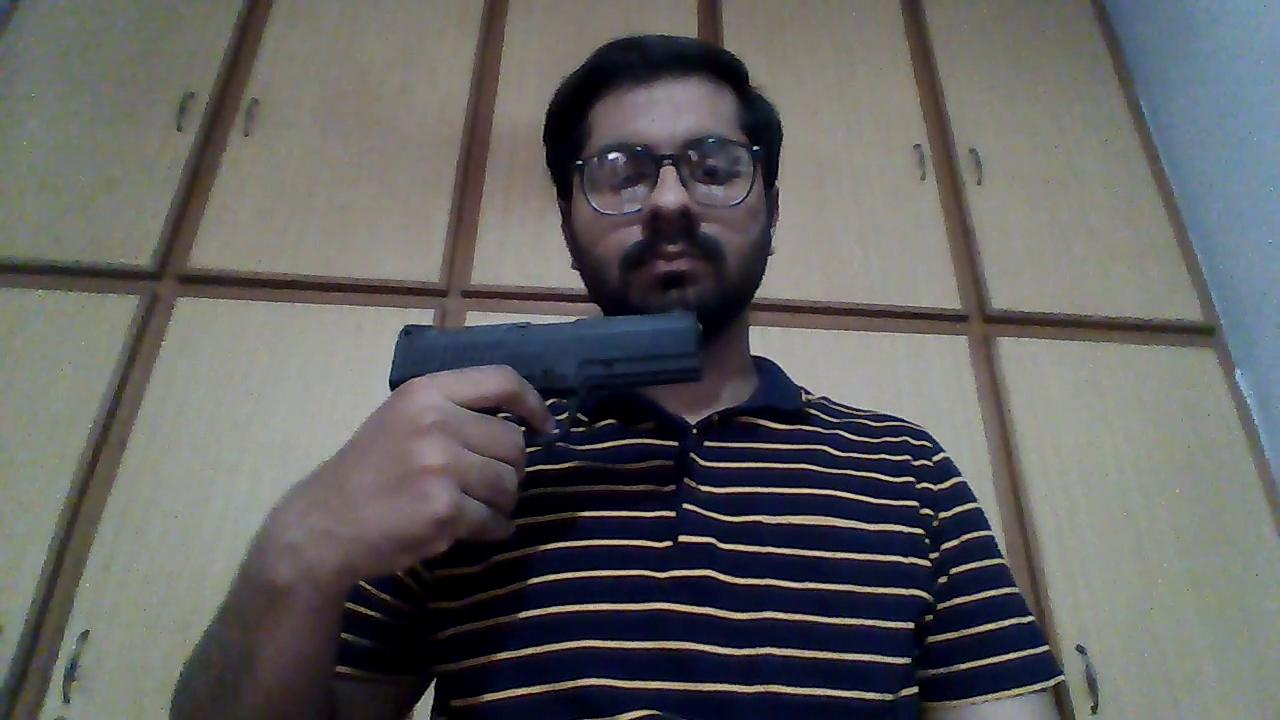criminal: (171, 34, 1068, 720)
weapon: (385, 310, 706, 439)
